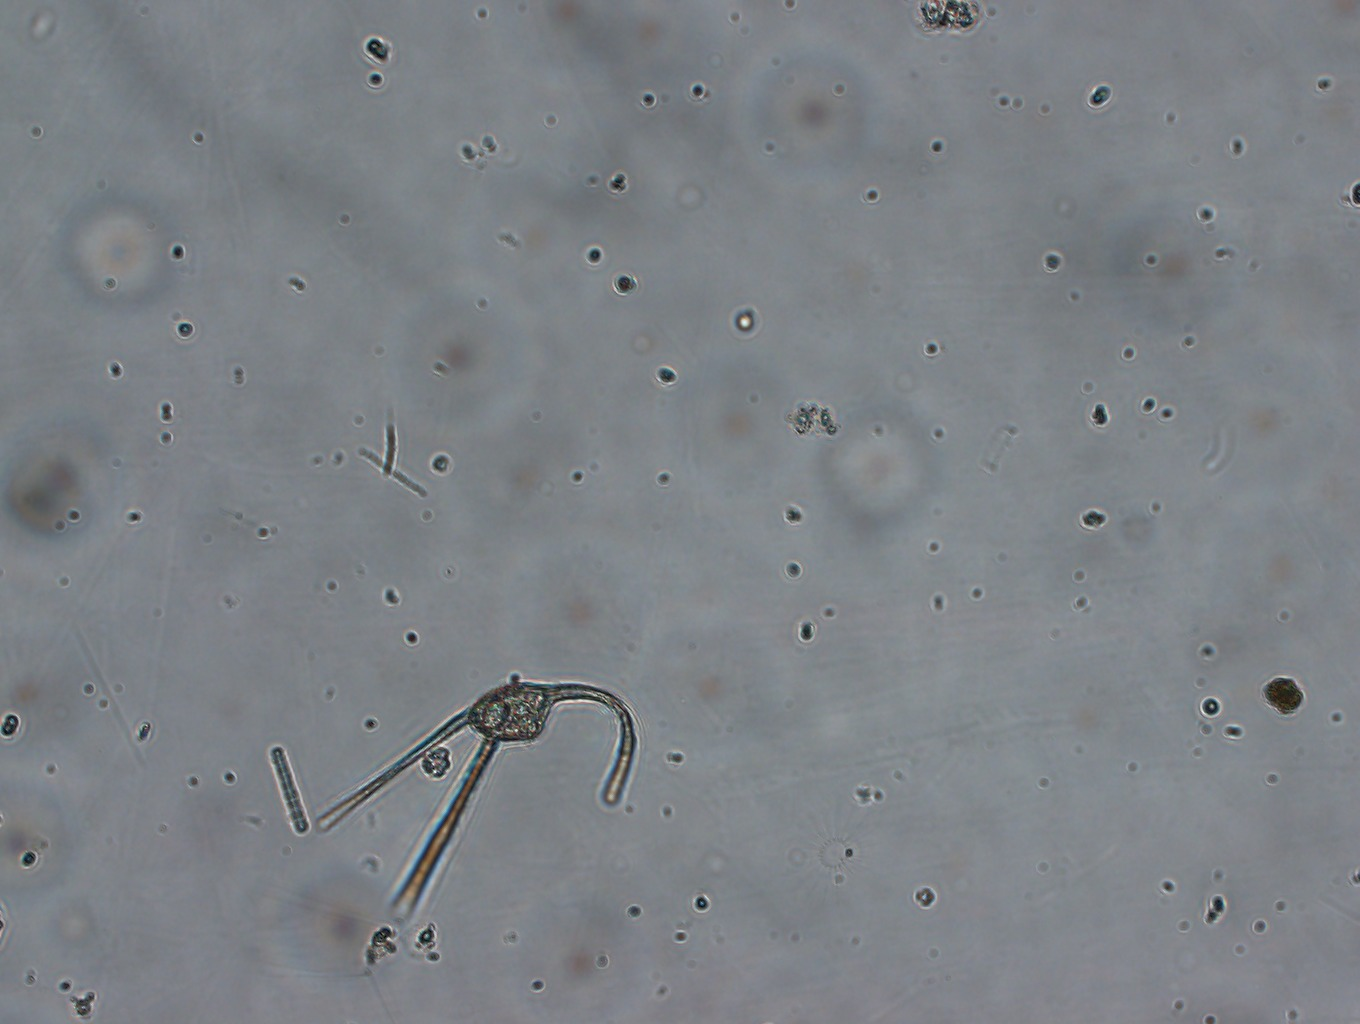ceratium trichoceros: (314, 660, 641, 919)
